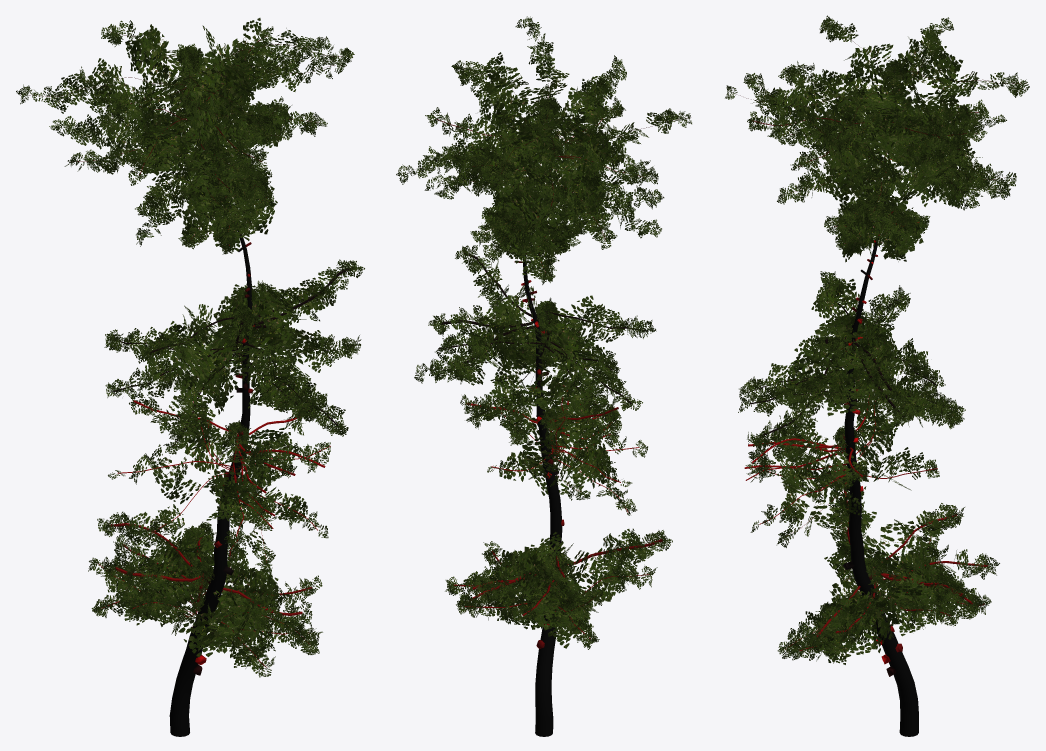
File: Tree_19.fbx
The picture shows the model from 3 angles, left to right: view 1: azimuth 30°, elevation 25°; view 2: azimuth 150°, elevation 25°; view 3: azimuth 270°, elevation 25°; orthographic projection. The views are drawn at different scales.
Parts seen in each view (by area): view 1: Tree_25; view 2: Tree_25; view 3: Tree_25.
Part boxes in pixels (x1,y1,x2,y2): Tree_25: (16,18,364,736); Tree_25: (396,16,691,736); Tree_25: (725,15,1029,736).
Size of the model in its own units: 1726 by 4183 by 1656.
